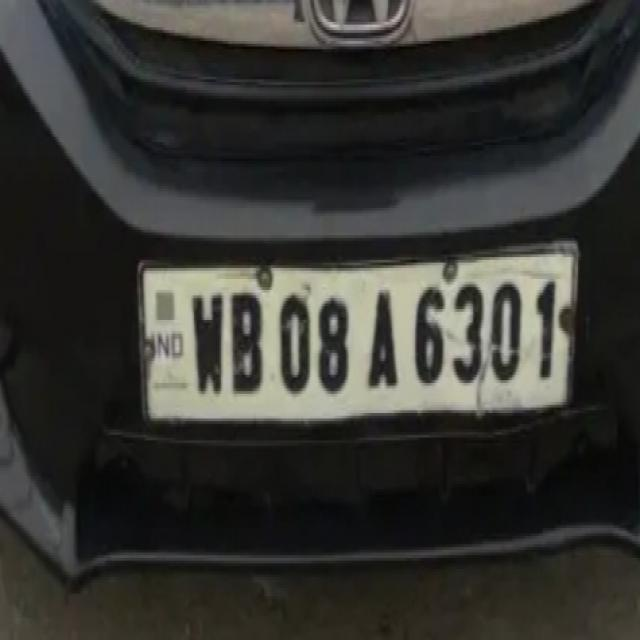0: (278, 290, 312, 403), (490, 264, 522, 382)
1: (531, 268, 562, 394)
3: (448, 272, 486, 390)
6: (411, 267, 447, 397)
8: (312, 280, 358, 406)
A: (366, 276, 402, 402)
B: (226, 286, 271, 408)
W: (186, 280, 226, 398)
